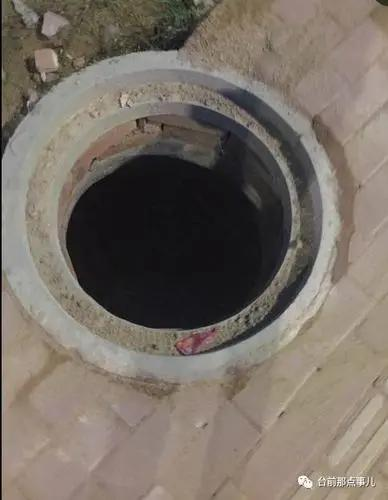wellcover: (3, 67, 330, 365)
